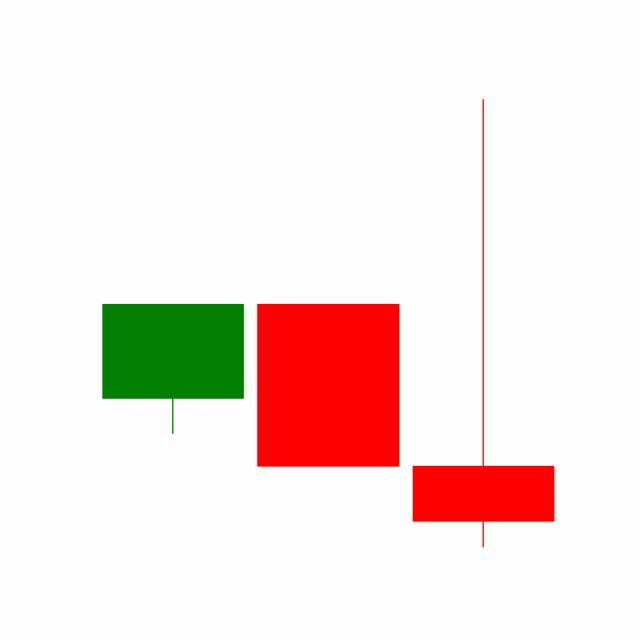Marubozu: (249, 301, 406, 468)
